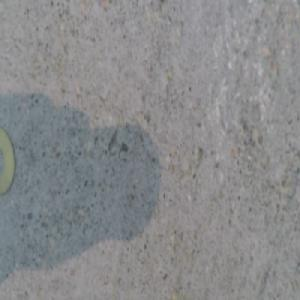Washer: (0, 129, 20, 194)
